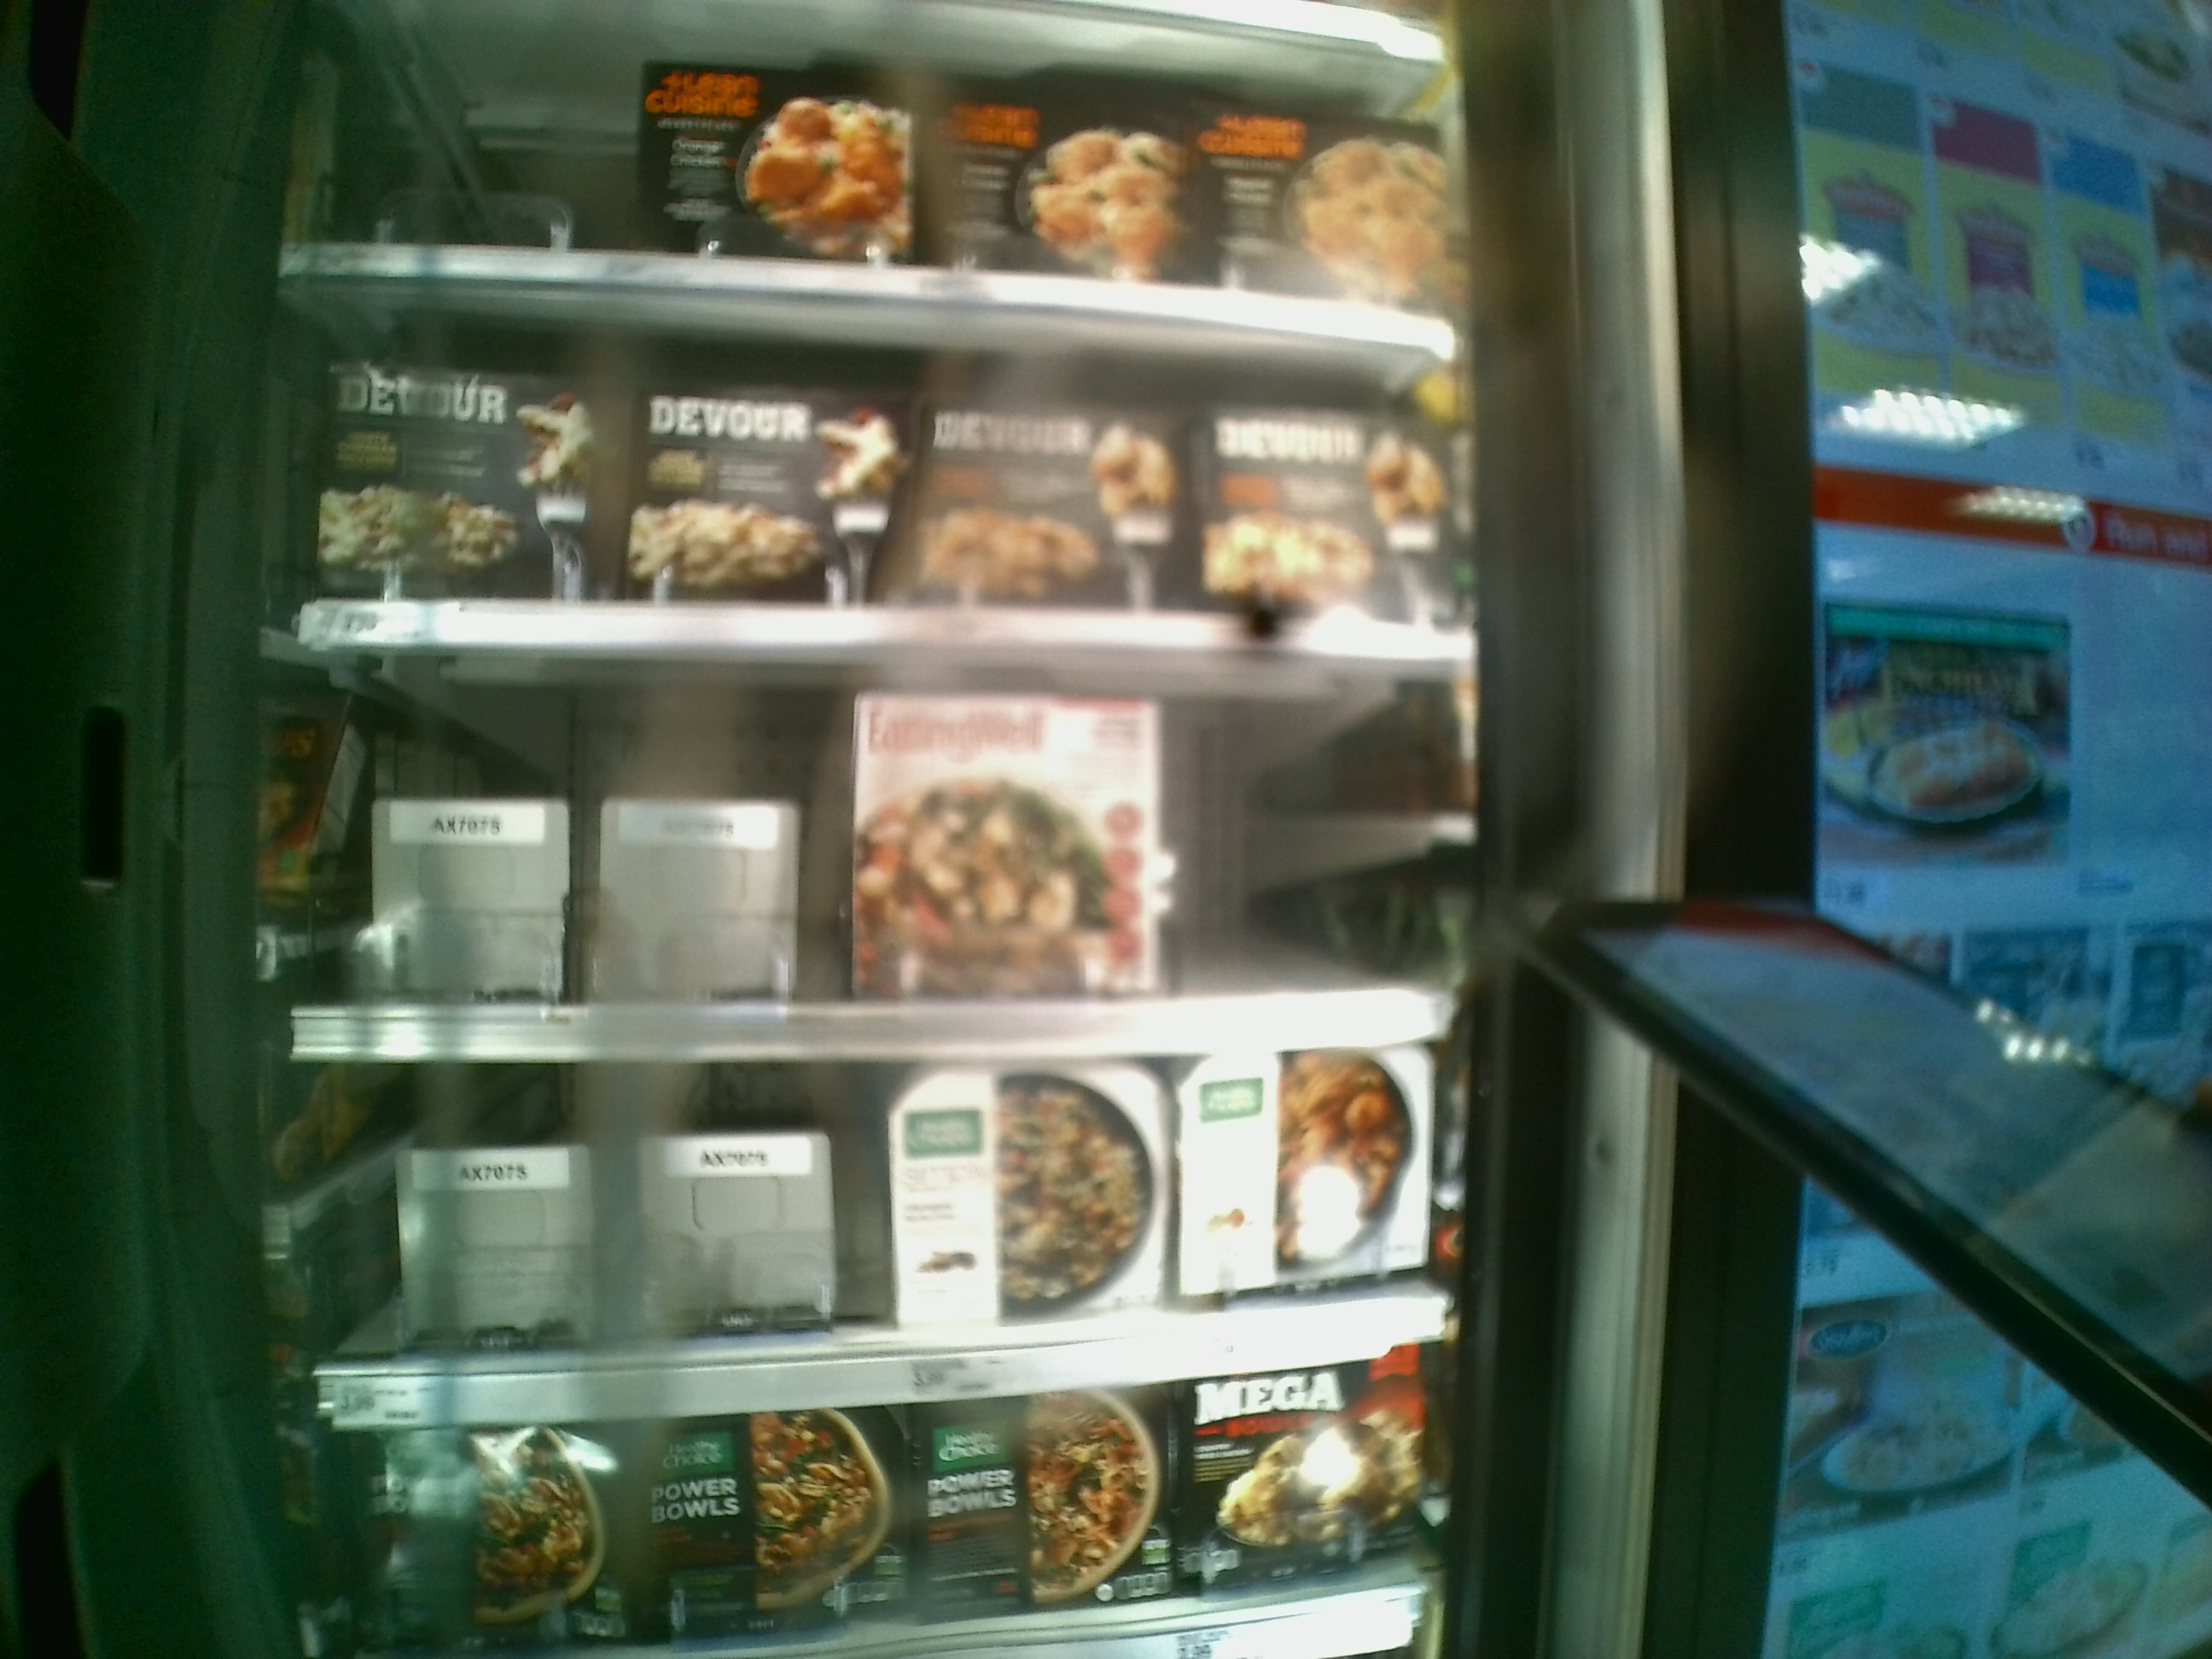shelf: (270, 638, 1465, 1053), (279, 270, 1474, 652), (291, 1060, 1463, 1417)
